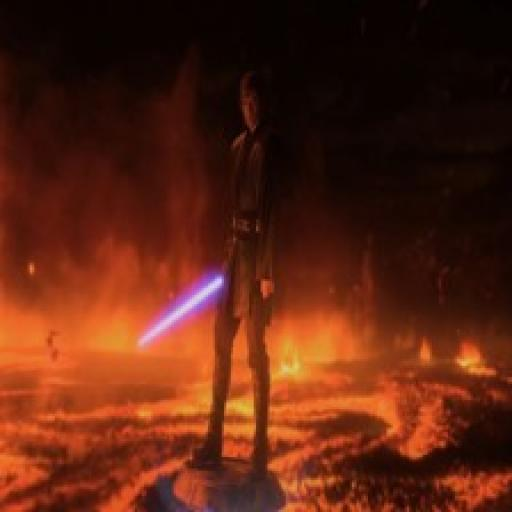human: (193, 63, 284, 477)
lightsaber: (128, 261, 231, 364)
